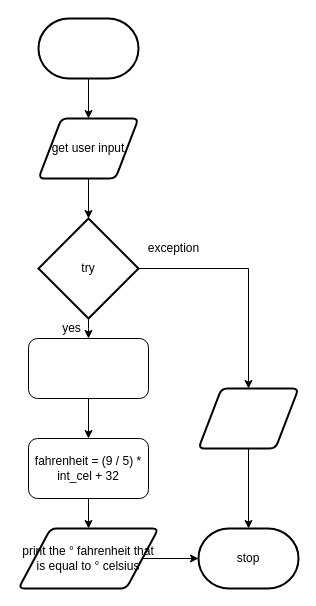
The diagram is 316 pixels wide and 606 high, and some of its shapes have lost their labels. Here are the shapes that lost their labels. From the top down, the centre of each, then its label:
(88,48): start
(88,368): convert str to int
(248,418): print("Invalid Integer.")
